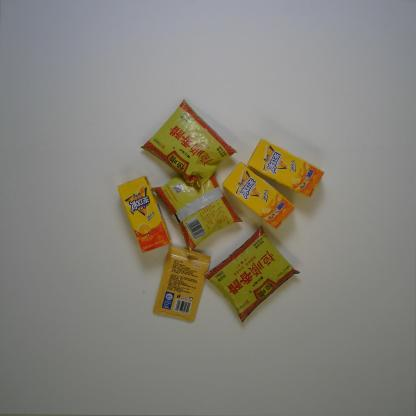Drink: (221, 160, 294, 230), (248, 138, 326, 200), (117, 174, 172, 255)
Seasoner: (203, 225, 301, 326), (139, 97, 239, 191), (152, 164, 242, 254), (148, 243, 212, 321)
